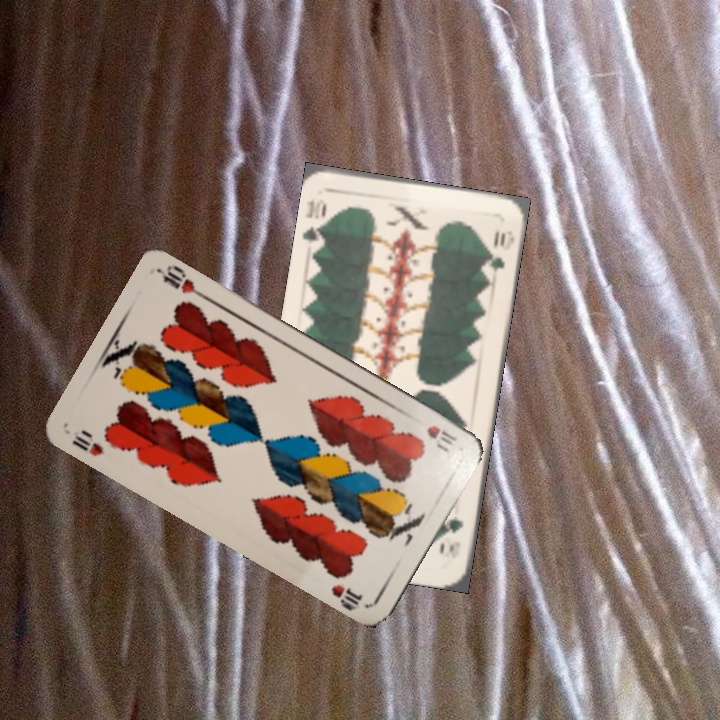G10: (300, 195, 331, 250), (441, 514, 466, 555)
H10: (67, 426, 106, 459), (422, 420, 460, 453)
